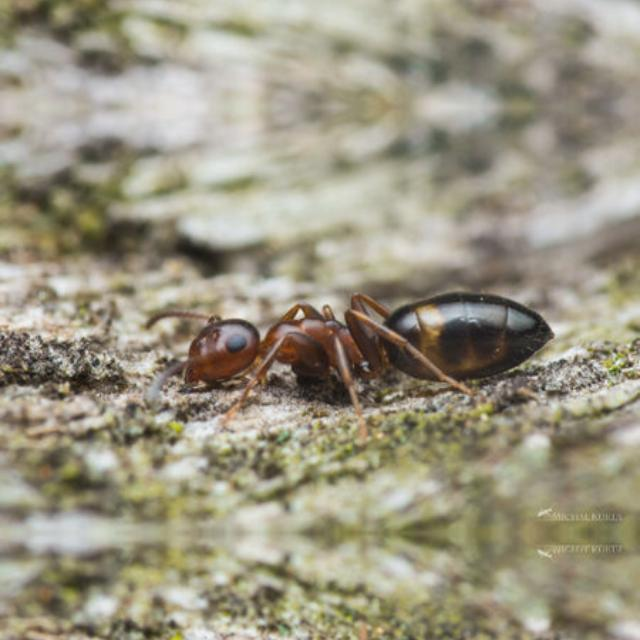Colobopsis: (125, 243, 572, 421)
